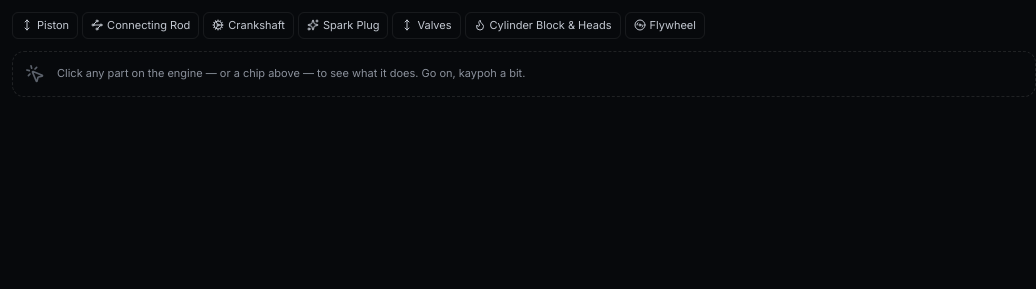
PartInspector › shows an explainer card when a part chip is clicked and clears it again
Expected: the text "Click any part" is shown, [57,66,525,80]
Click the button "Crankshaft" at (249, 25), box [203,12,294,38]
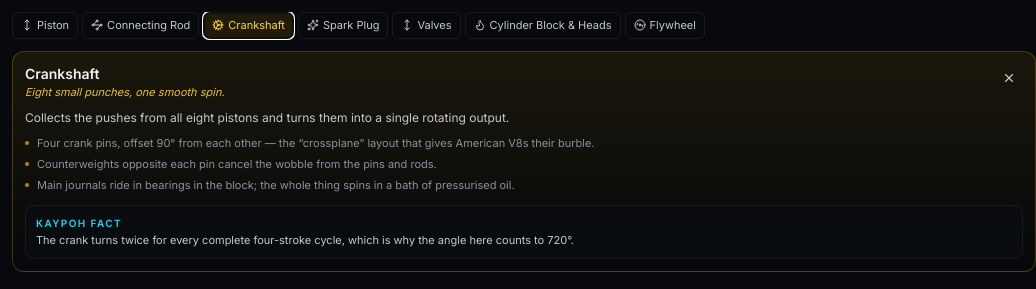
Result: the text "Eight small punches, one smooth spin." is shown at [25,84,225,100]
Result: the text "The crank turns twice for every complete four-stroke cycle, which is why the angle here counts to 720°." is shown at [36,233,574,247]
Click the button named "clear selection" at (1009, 78), box [995,64,1023,92]
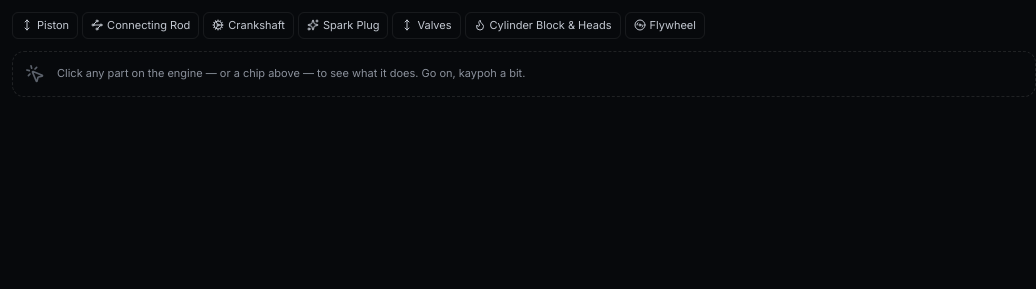
Result: the text "Click any part" is shown at [57,66,525,80]
